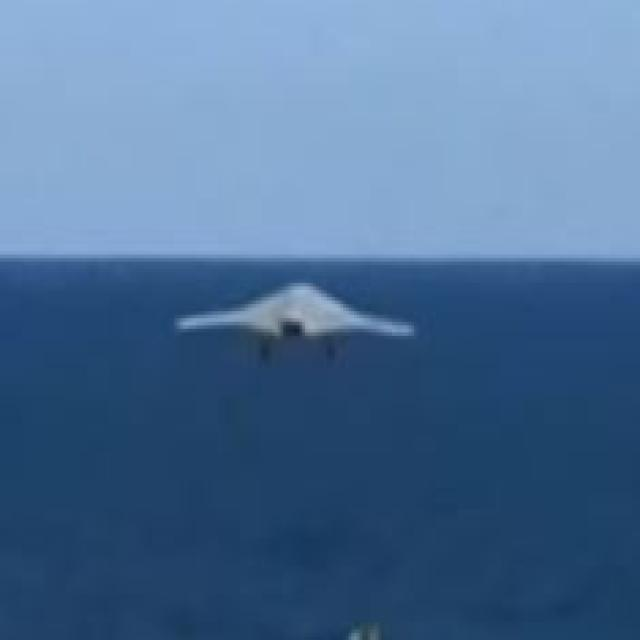iha: (176, 310, 417, 334)
